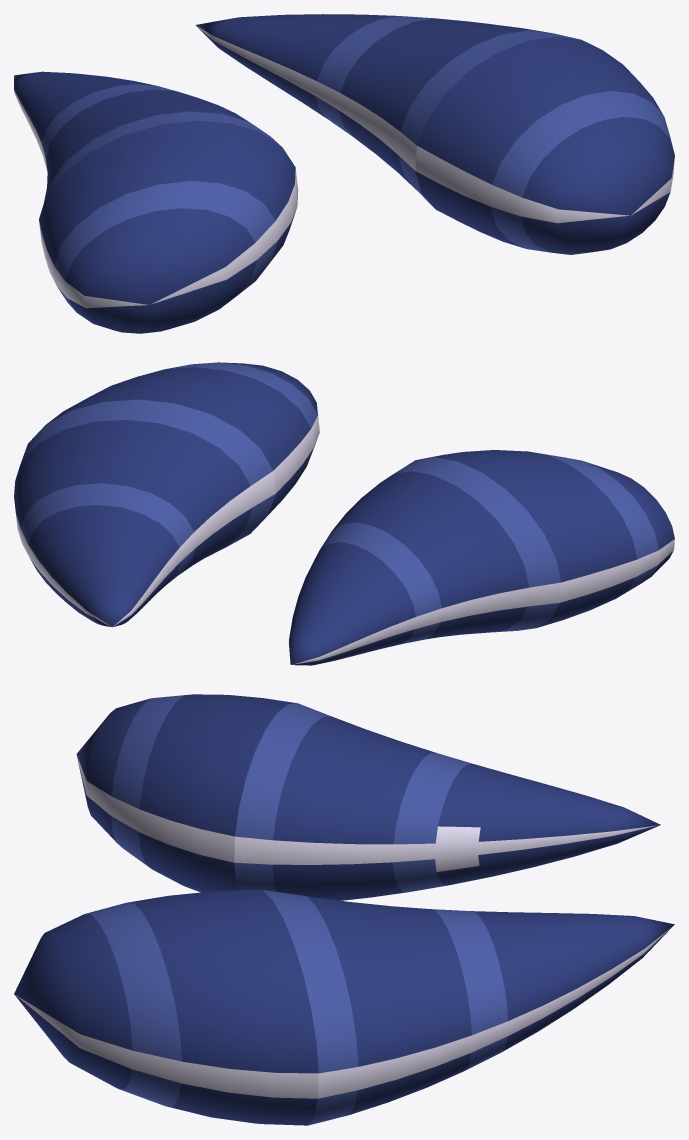
The model's file is concha-mexilhao.glb.
3 views of the same model, one above another, from view 1: azimuth 30°, elevation 25°; view 2: azimuth 150°, elevation 25°; view 3: azimuth 270°, elevation 25° (orthographic). The views are drawn at different scales.
Visible parts, largest first — view 1: concha-mexilhao; view 2: concha-mexilhao; view 3: concha-mexilhao.
Boxes of the visible parts, x1,y1,x2,y2 form: concha-mexilhao: (14, 14, 674, 333); concha-mexilhao: (14, 362, 674, 665); concha-mexilhao: (14, 694, 674, 1125).
Size of the model in its own units: 0.0646 by 0.0178 by 0.0543.
